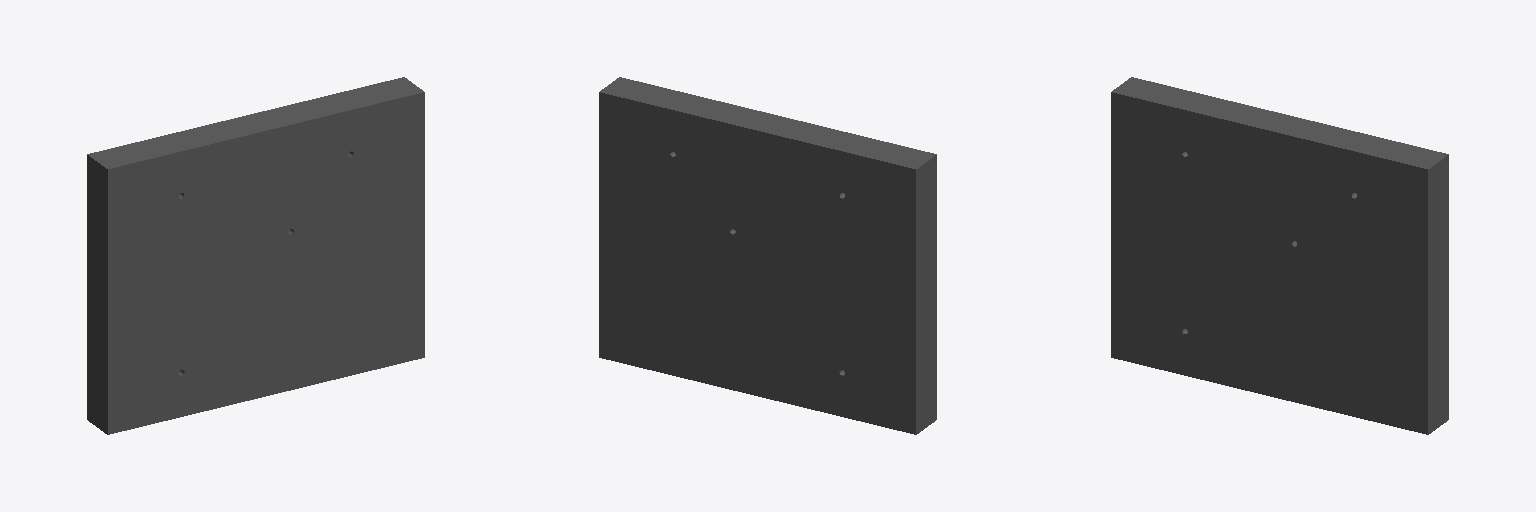
Rendered from rect2.obj.
The picture shows the model from 3 angles: view 1: azimuth 30°, elevation 25°; view 2: azimuth 150°, elevation 25°; view 3: azimuth 330°, elevation 25°; orthographic projection.
Visible parts, largest first — view 1: StainlessSteel_rect2; view 2: StainlessSteel_rect2; view 3: StainlessSteel_rect2.
Boxes of the visible parts, box(x1,y1,x2,y2) form: StainlessSteel_rect2: box(87, 77, 424, 434); StainlessSteel_rect2: box(599, 77, 936, 434); StainlessSteel_rect2: box(1111, 77, 1448, 434).
Bounding box in the file's own units: 0.1125 × 0.09 × 0.0127.